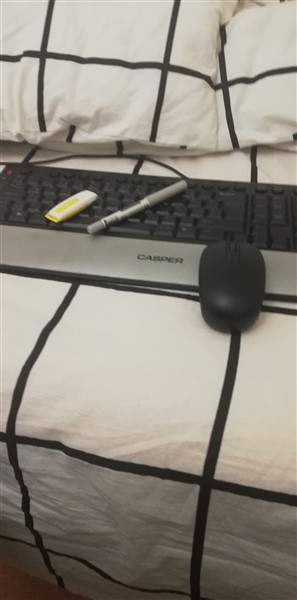flash disk: (41, 185, 100, 229)
klavye: (1, 152, 297, 301)
mouse: (193, 230, 270, 338)
pilot kalem: (88, 177, 190, 238)
